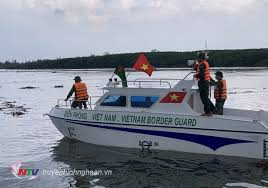tau_dansu: (54, 76, 268, 159)
